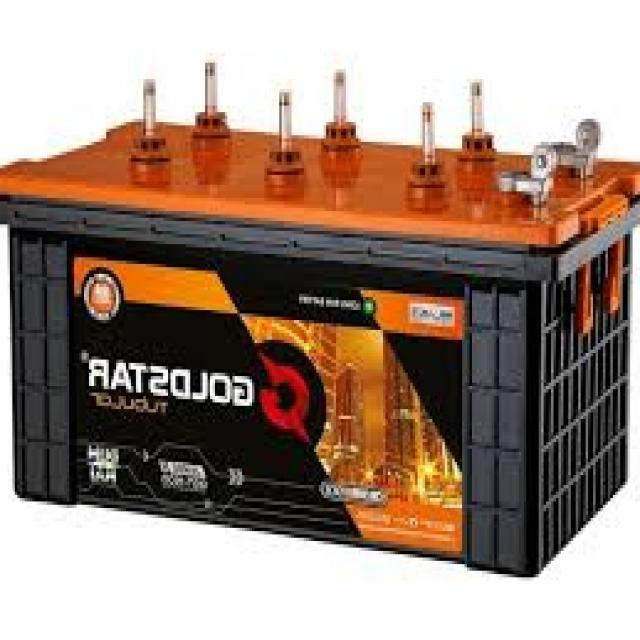battery: (0, 66, 636, 585)
